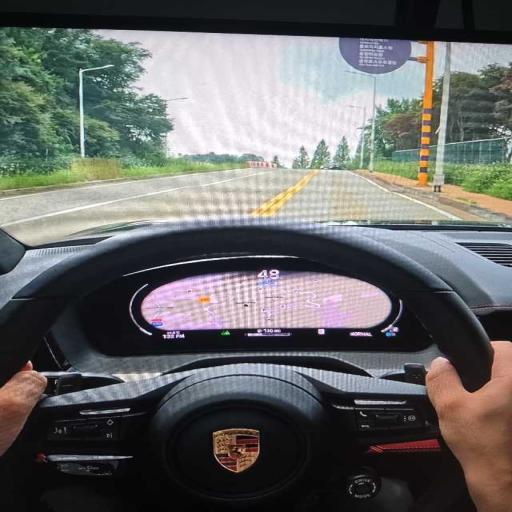car: (0, 5, 511, 511), (324, 164, 342, 169)
lane: (0, 169, 310, 244), (0, 169, 259, 225), (276, 171, 458, 220)
person: (427, 342, 511, 511), (0, 362, 47, 456)
